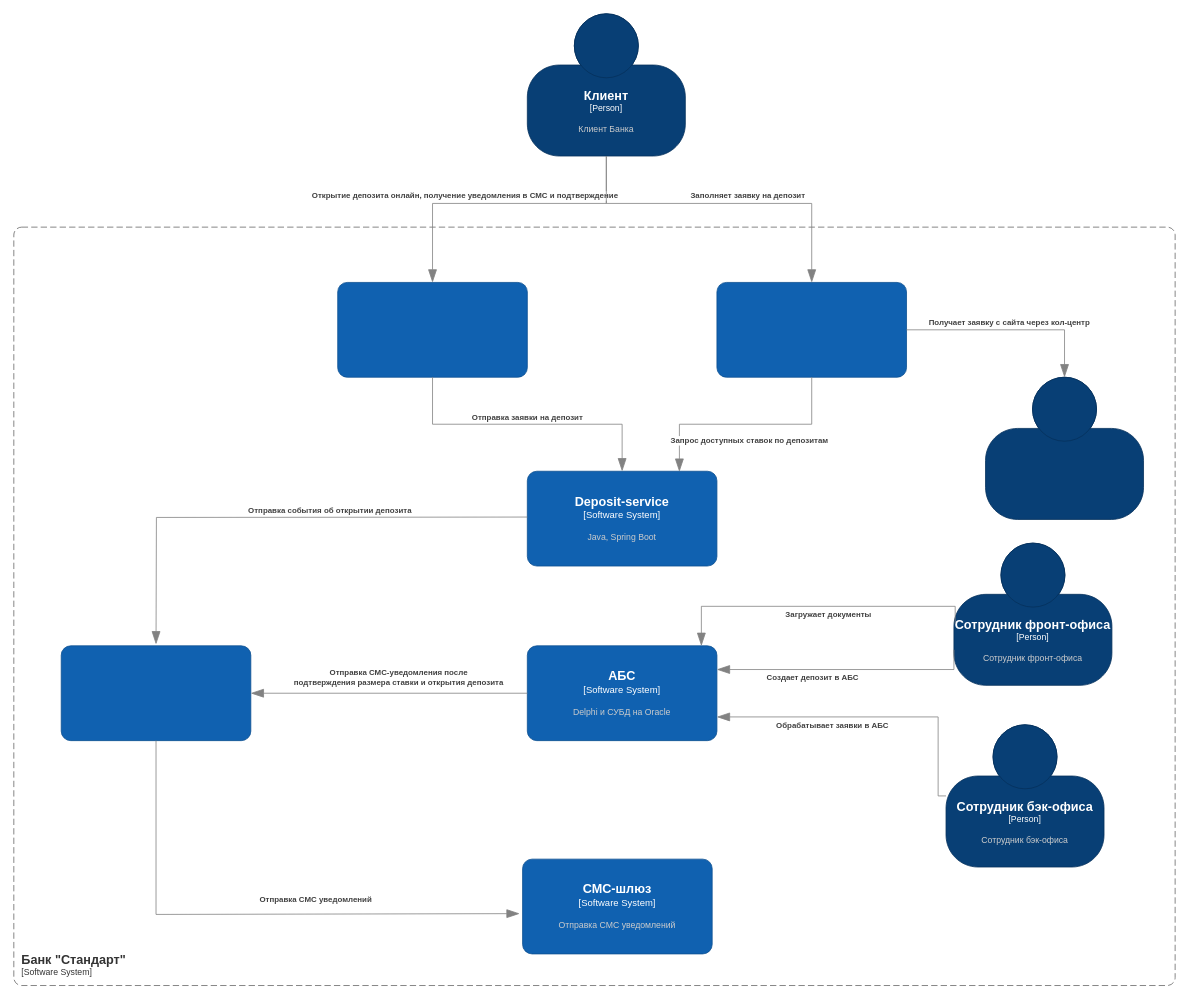
Some shapes in this 1189 by 999 pixel diagram are drawn without their labels. Each missing label, with the centre of its shape:
"notification-service [Software System] Java, Spring Boot" belongs at point 155,693.
"Веб-сайт [Software System] PHP и React.js" belongs at point 811,329.
"Интернет-банк [Software System] ASP.NET MVC 4.5" belongs at point 432,329.
"Сотрудник кол-центра [Person] Сотрудник кол-центра" belongs at point 1064,447.
